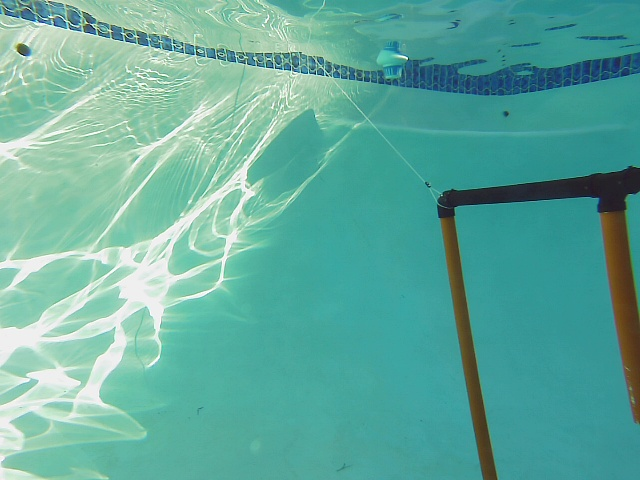Gate: (435, 210, 502, 480), (596, 201, 639, 423)
